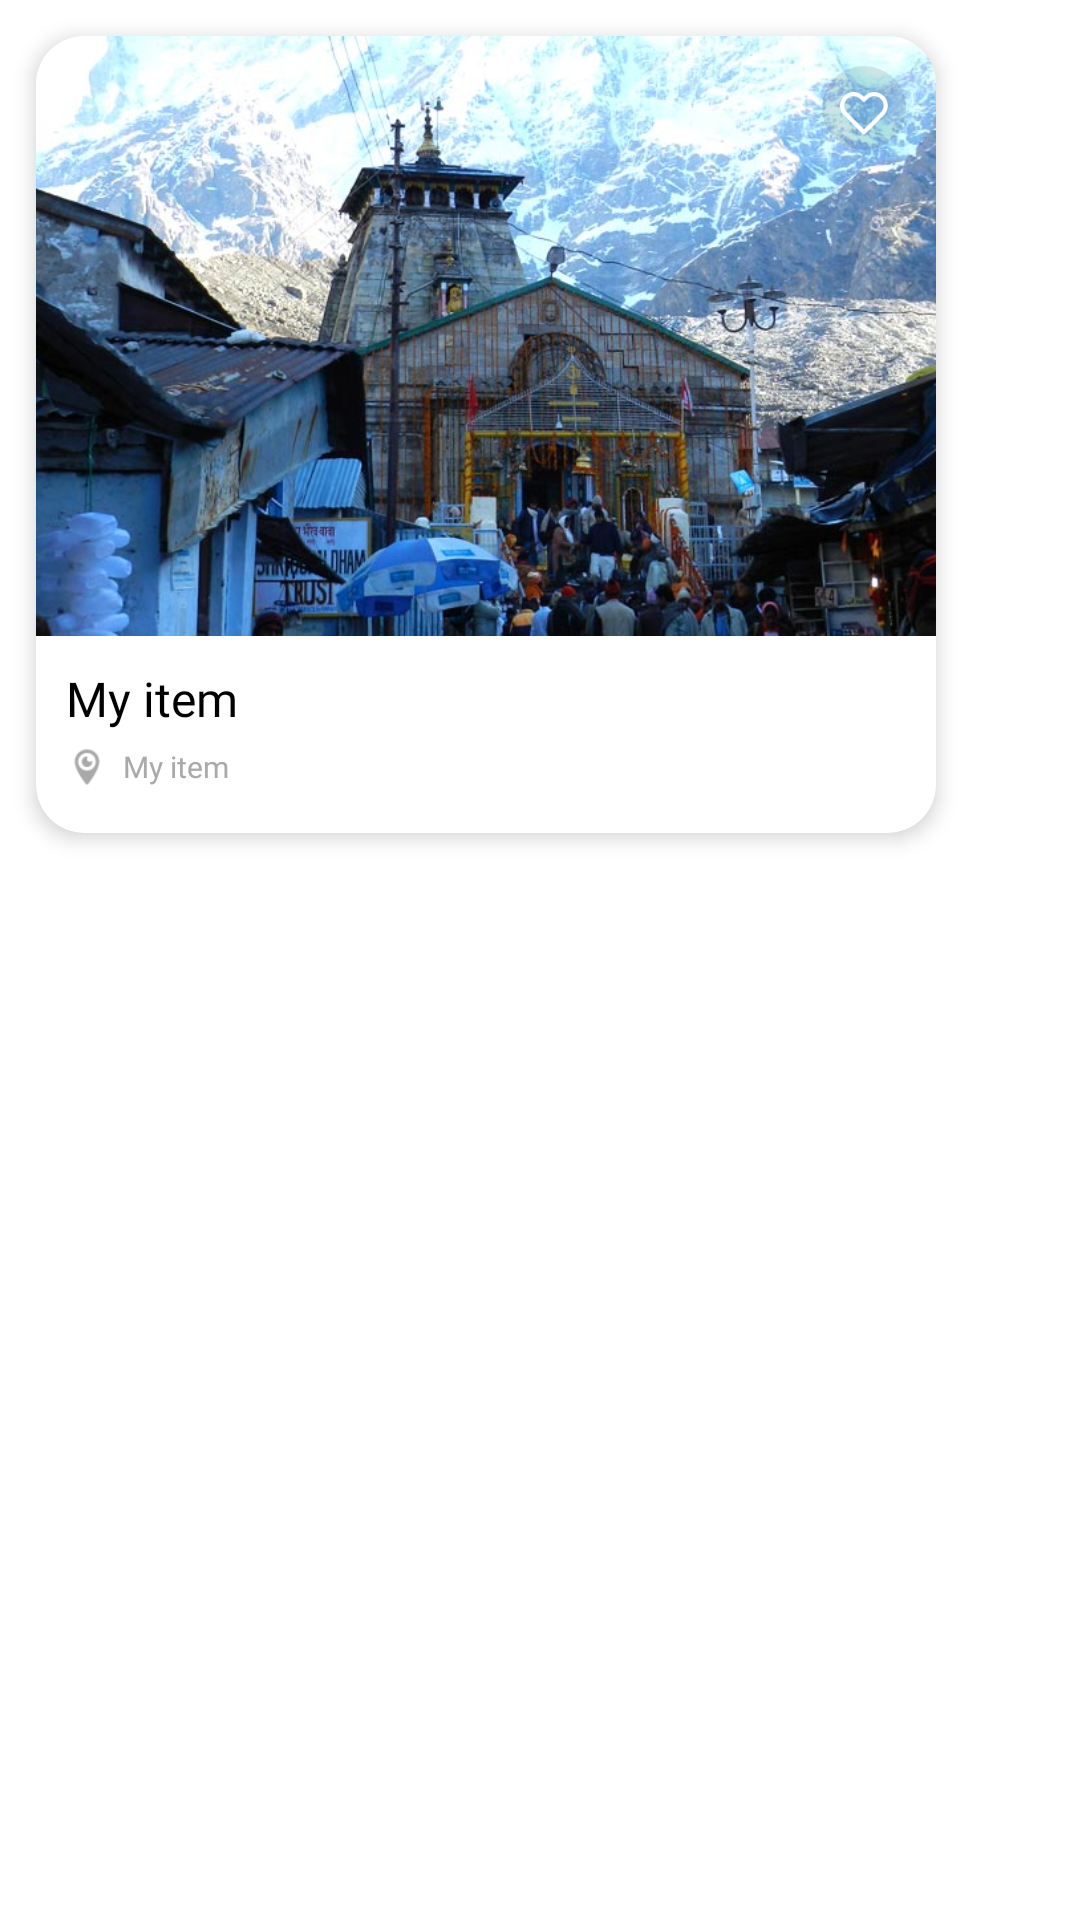

Point at icon controls on the screen. Image size 1080px x 1920px, points as [x,y].
smol location: [87,767]
